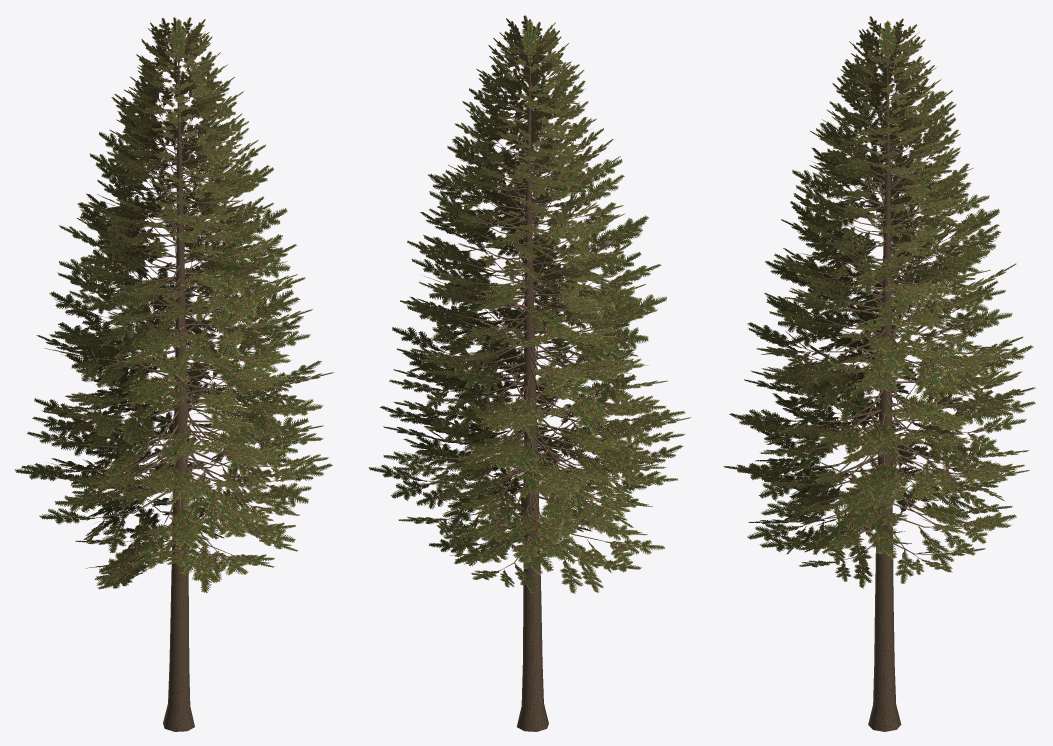
The model's file is fir_tall_lod1.gltf.
The picture shows the model from 3 angles, left to right: view 1: azimuth 30°, elevation 25°; view 2: azimuth 150°, elevation 25°; view 3: azimuth 270°, elevation 25°; orthographic projection.
Visible parts, largest first — view 1: fir_tall_LOD1; view 2: fir_tall_LOD1; view 3: fir_tall_LOD1.
Boxes of the visible parts, left/top/right/bottom form: fir_tall_LOD1: left=14, top=17, right=334, bottom=731; fir_tall_LOD1: left=368, top=15, right=691, bottom=731; fir_tall_LOD1: left=723, top=16, right=1035, bottom=731.
Bounding box in the file's own units: 12.38 × 30.6 × 12.48.
Materials: 2 (2 with a texture image).
